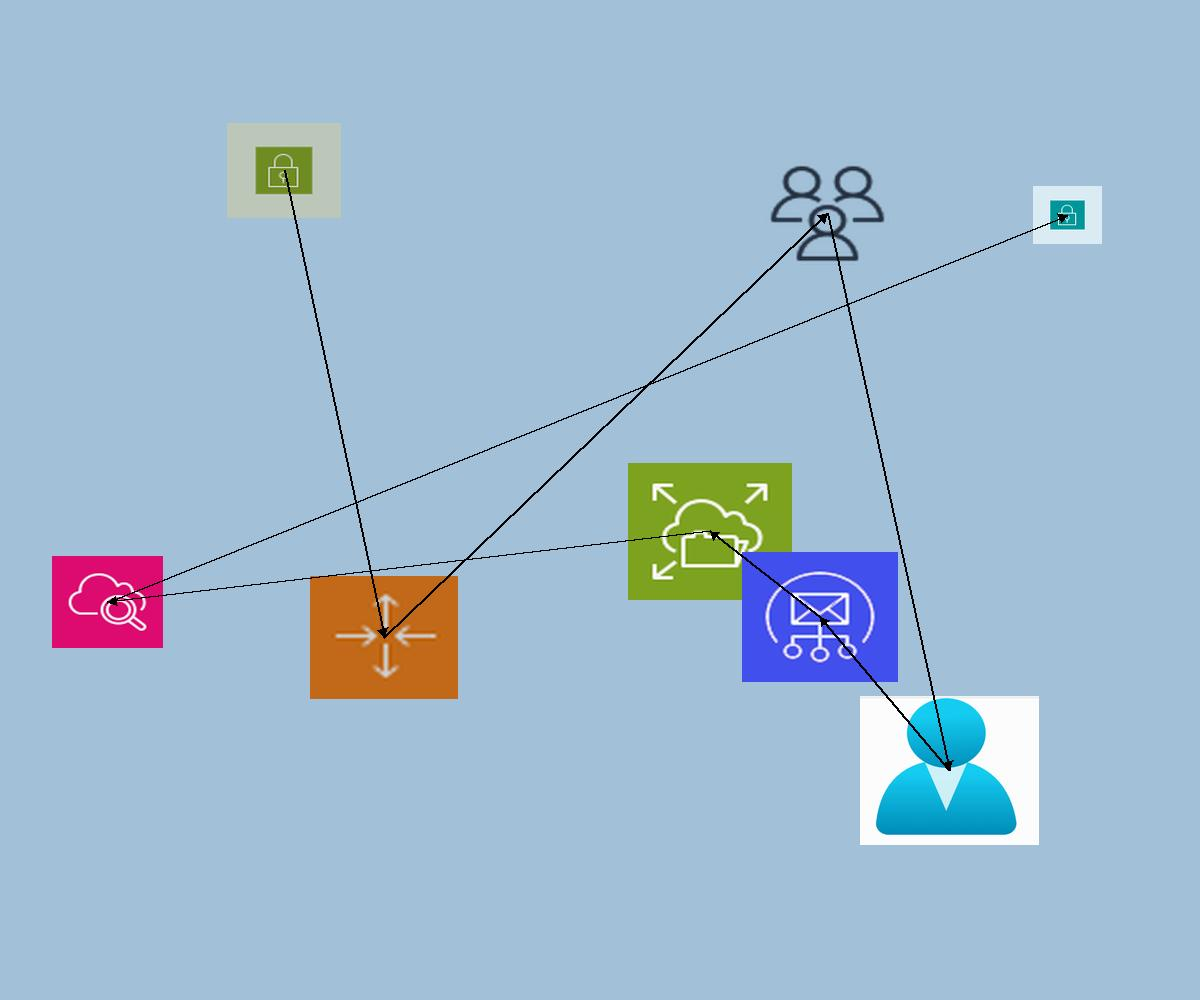AWS-CloudWatch: (52, 556, 163, 648)
AWS-EFS: (628, 463, 792, 600)
AWS-Private-subnet: (1033, 186, 1102, 244)
AWS-Public-subnet: (227, 123, 341, 218)
AWS-Res_Users: (766, 162, 889, 265)
AWS-Scaling-group: (310, 576, 458, 699)
AWS-Simple-Email-Service: (742, 552, 898, 682)
Azure_users: (860, 696, 1039, 845)
